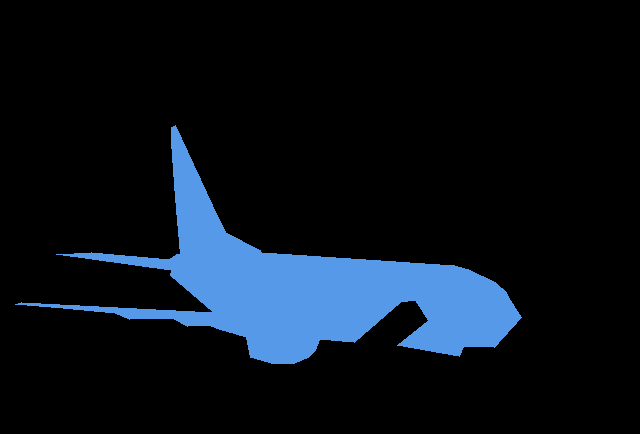Airplane: (15, 125, 521, 363)
